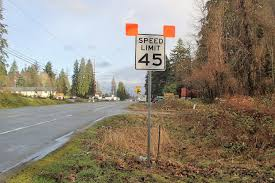speedLimit45: (134, 31, 167, 72)
